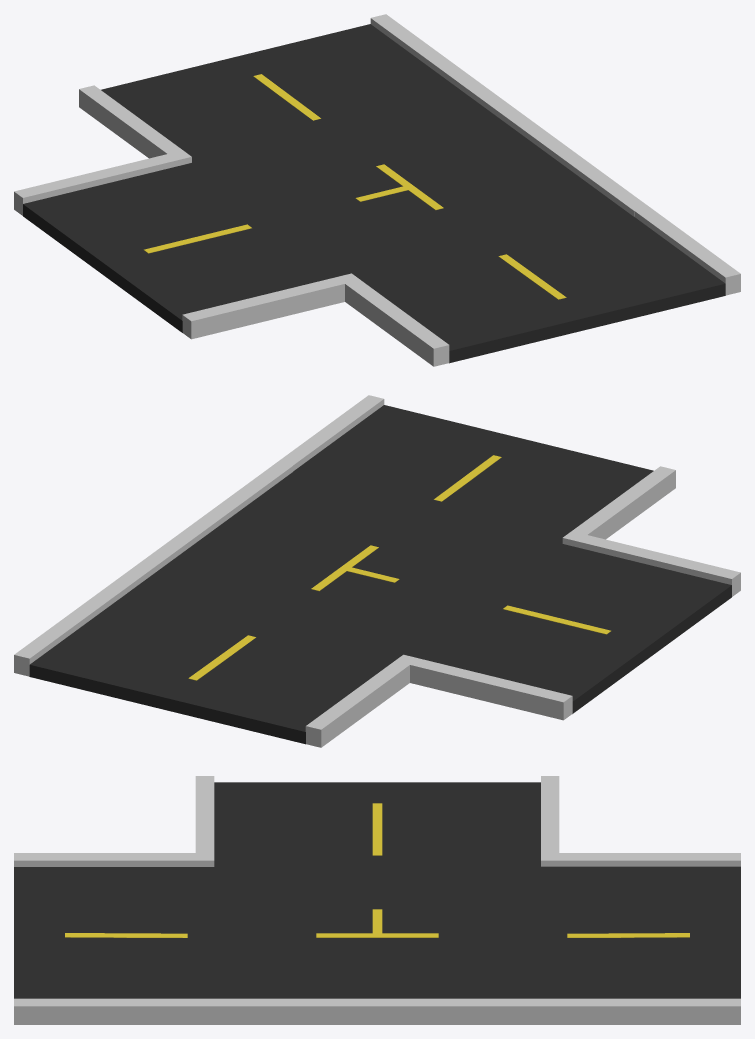
File: 3wayRoad.fbx
The picture shows the model from 3 angles, top to bottom: view 1: azimuth 30°, elevation 25°; view 2: azimuth 150°, elevation 25°; view 3: azimuth 270°, elevation 25°; orthographic projection. The views are drawn at different scales.
Visible parts, largest first — view 1: Cube.001; view 2: Cube.001; view 3: Cube.001.
Boxes of the visible parts, x1,y1,x2,y2 form: Cube.001: [14, 14, 740, 366]; Cube.001: [14, 395, 740, 747]; Cube.001: [14, 776, 740, 1024].
Bounding box in the file's own units: 1200 × 45.52 × 1600.
